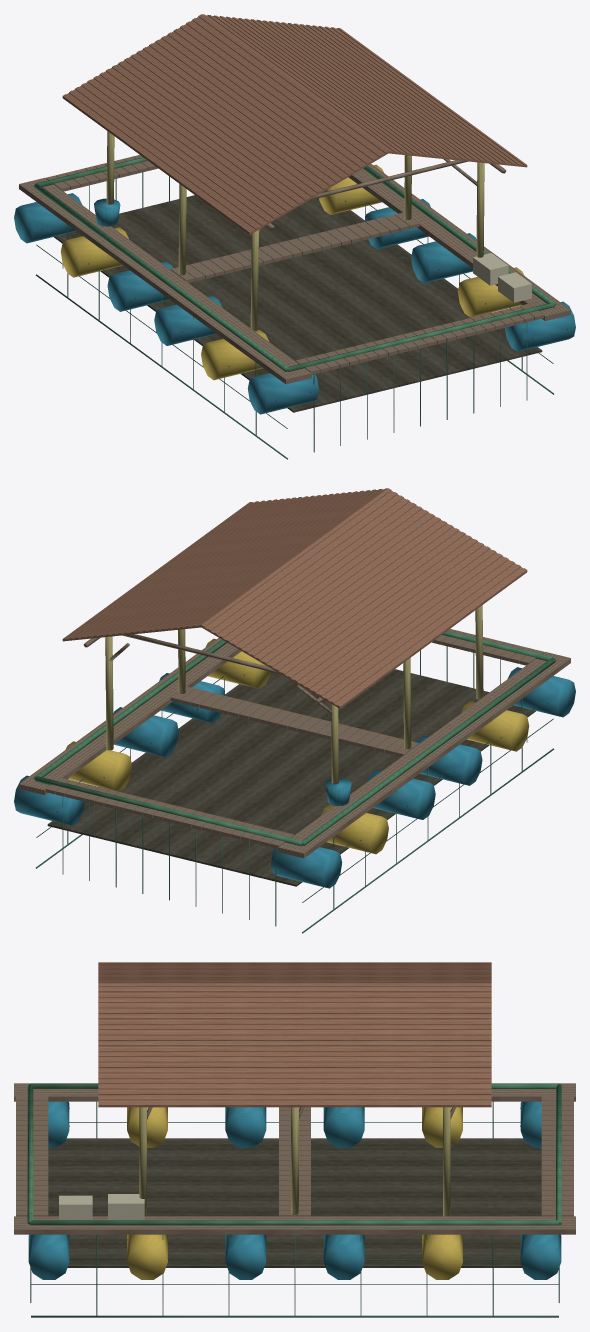
File: bung-raft-2-rust.glb
The picture shows the model from 3 angles, top to bottom: view 1: azimuth 30°, elevation 25°; view 2: azimuth 150°, elevation 25°; view 3: azimuth 270°, elevation 25°; orthographic projection. The views are drawn at different scales.
Visible parts, largest first — view 1: bung-raft-2-rust; view 2: bung-raft-2-rust; view 3: bung-raft-2-rust.
Boxes of the visible parts, x1=… form: bung-raft-2-rust: x1=14, y1=14, x2=575, y2=459; bung-raft-2-rust: x1=14, y1=488, x2=575, y2=933; bung-raft-2-rust: x1=14, y1=962, x2=575, y2=1317.
Bounding box in the file's own units: 5.34 × 4.18 × 8.
Materials: 1 (1 with a texture image).
